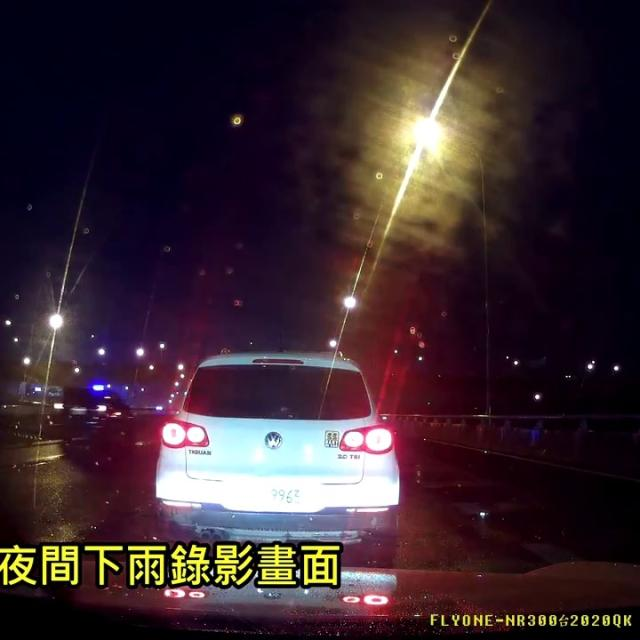Car: (152, 344, 402, 566), (44, 383, 136, 450)
